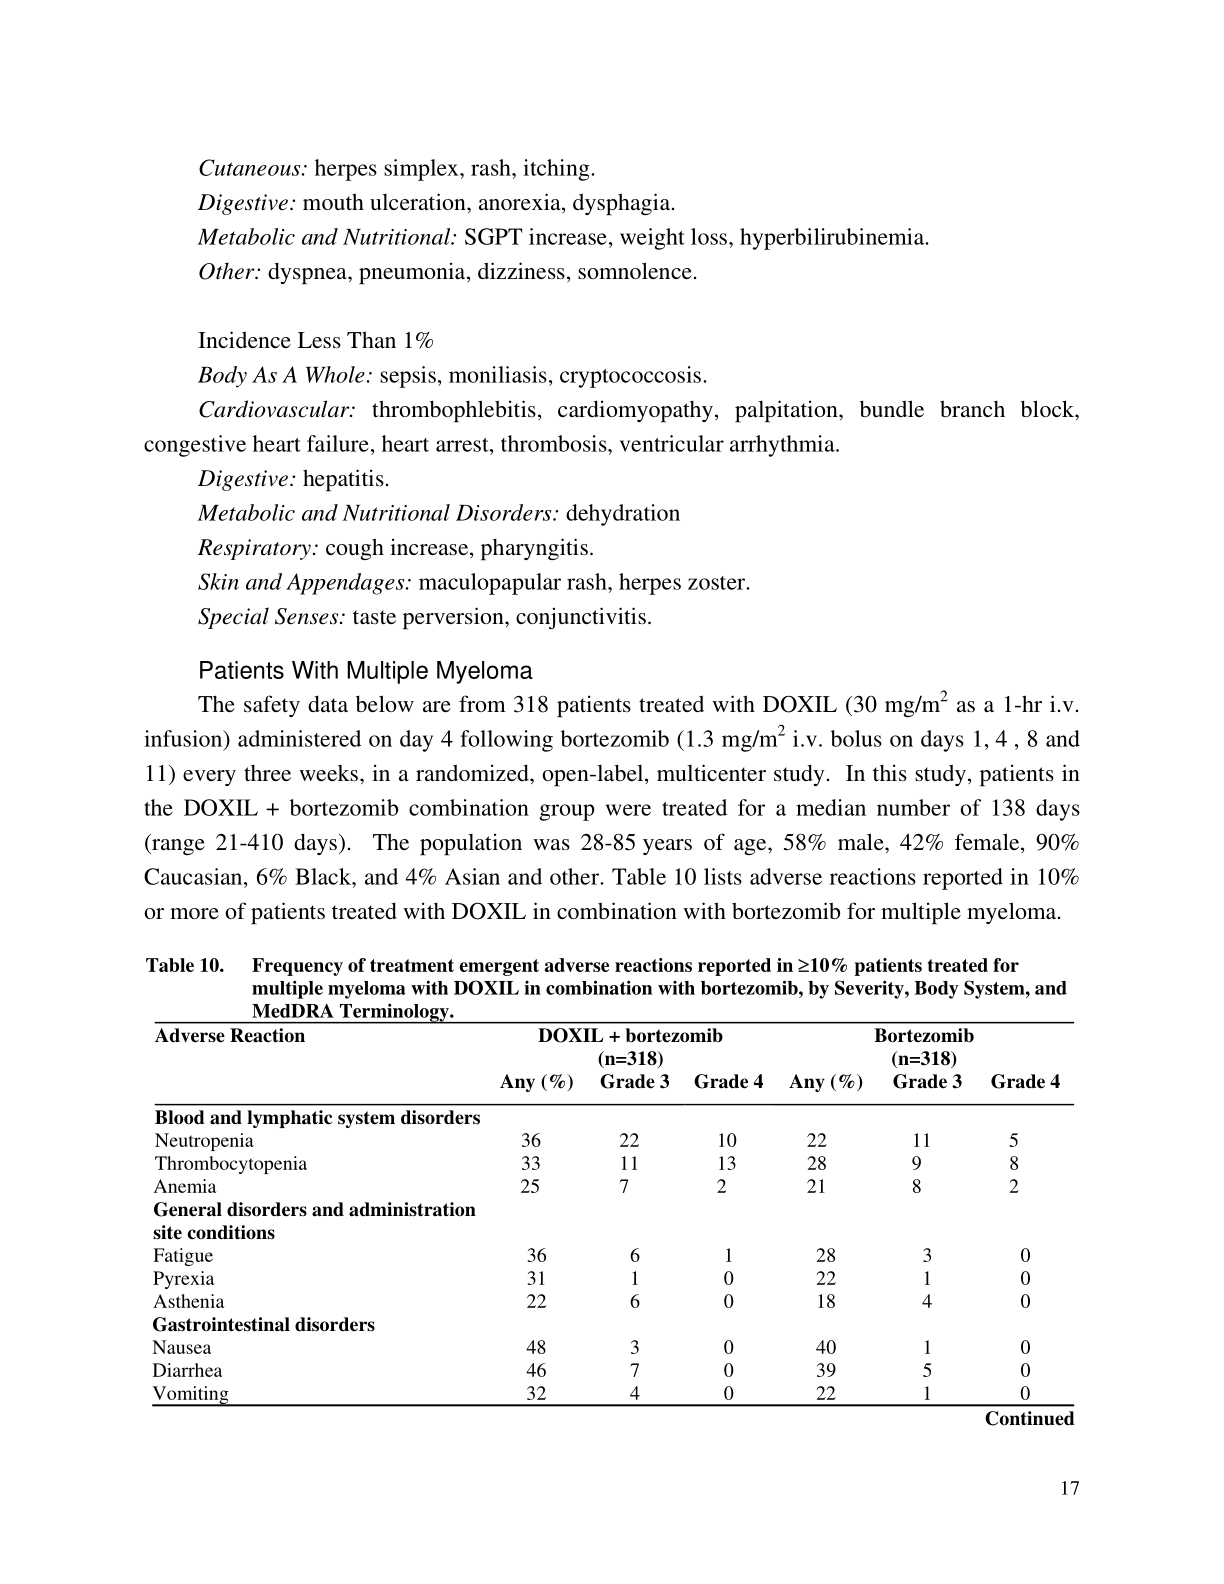partial_lined_merged_cells: (150, 1020, 1075, 1407)
